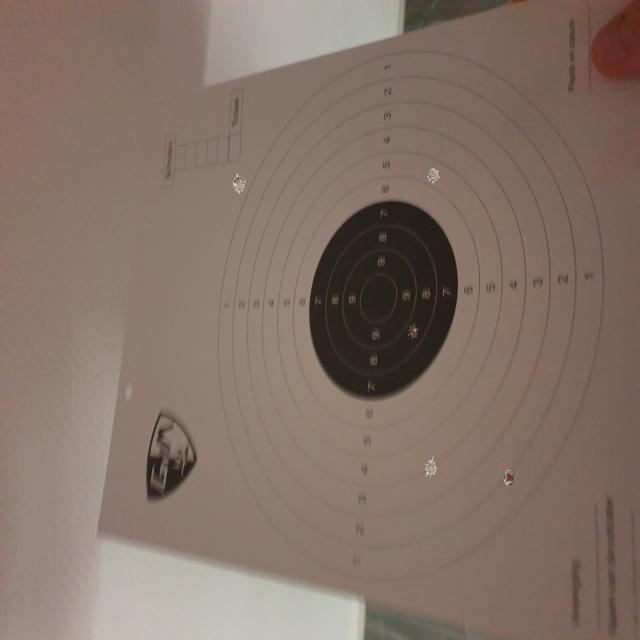0: (232, 173, 246, 194)
2: (503, 468, 515, 486)
4: (424, 458, 437, 478)
5: (426, 167, 440, 184)
8: (408, 322, 419, 340)
Target: (218, 46, 606, 586)
black_contour: (308, 200, 458, 401)
